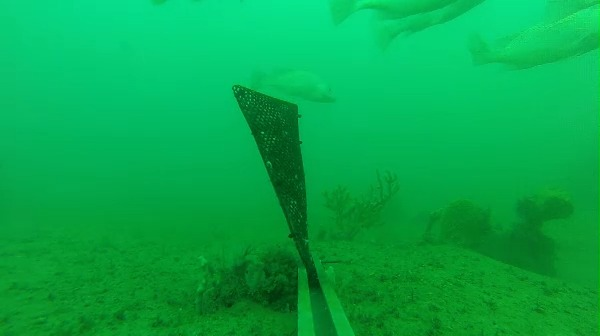fish: (458, 0, 592, 92), (245, 44, 382, 105)
